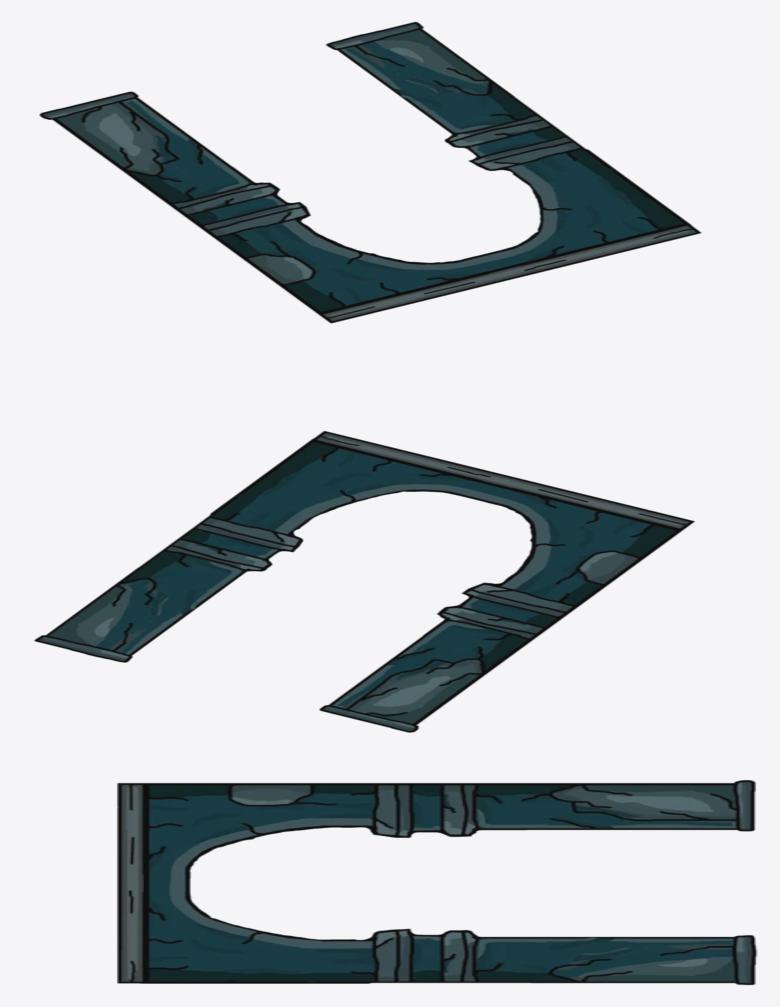
The model's file is OB_Column_2.glb.
The picture shows the model from 3 angles, top to bottom: view 1: azimuth 30°, elevation 25°; view 2: azimuth 150°, elevation 25°; view 3: azimuth 270°, elevation 25°; orthographic projection. The views are drawn at different scales.
Parts seen in each view (by area): view 1: OB_Column_2; view 2: OB_Column_2; view 3: OB_Column_2.
Boxes of the visible parts, left/top/right/bottom form: OB_Column_2: left=39, top=22, right=701, bottom=323; OB_Column_2: left=34, top=431, right=694, bottom=732; OB_Column_2: left=117, top=780, right=756, bottom=984.
Bounding box in the file's own units: 525 × 7.74e-05 × 750.
Materials: 1 (1 with a texture image).
